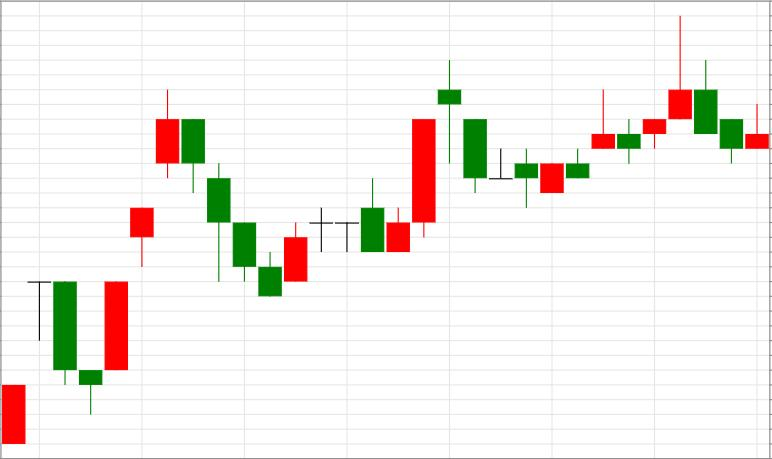evening_star_fall: (259, 61, 487, 297)
shooting_star_fall: (540, 17, 691, 194)
three_black_crows_fall: (79, 90, 255, 413)
